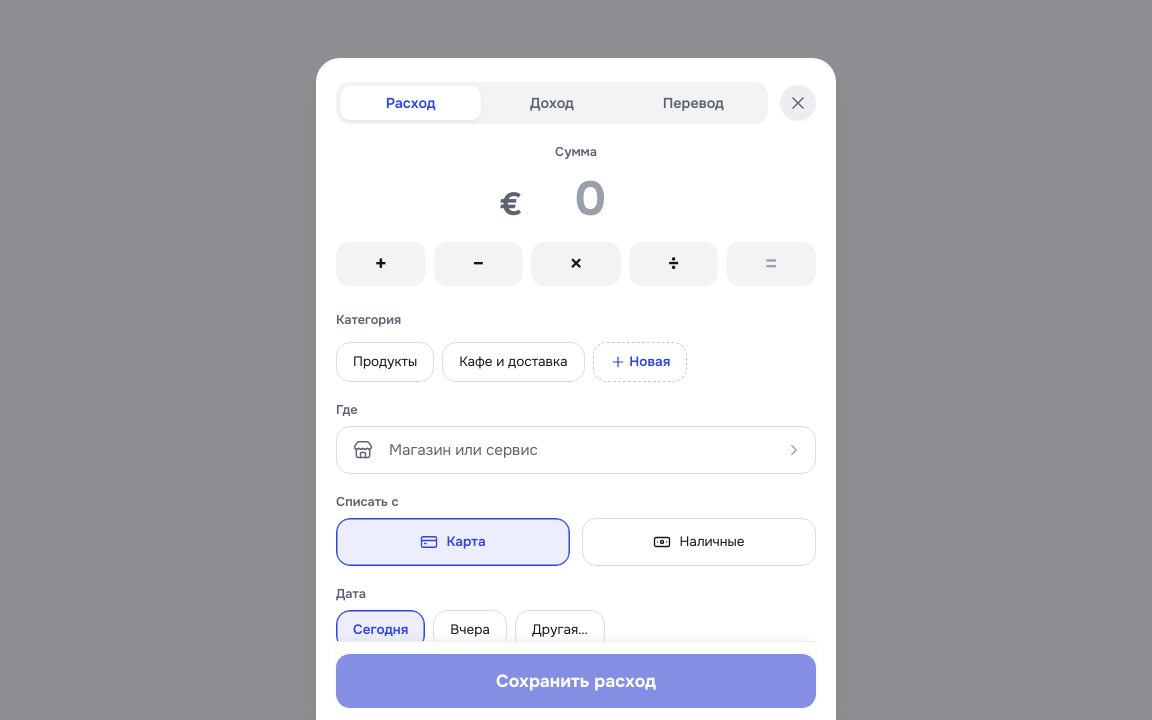
Scenario: the «Где» sheet › replaces the form inside the same dialog and returns to it with everything intact
This screenshot has width=1152, height=720.
Type "34" into the field with placeholder "0". click: point(590, 199)
box: [526,168,653,230]
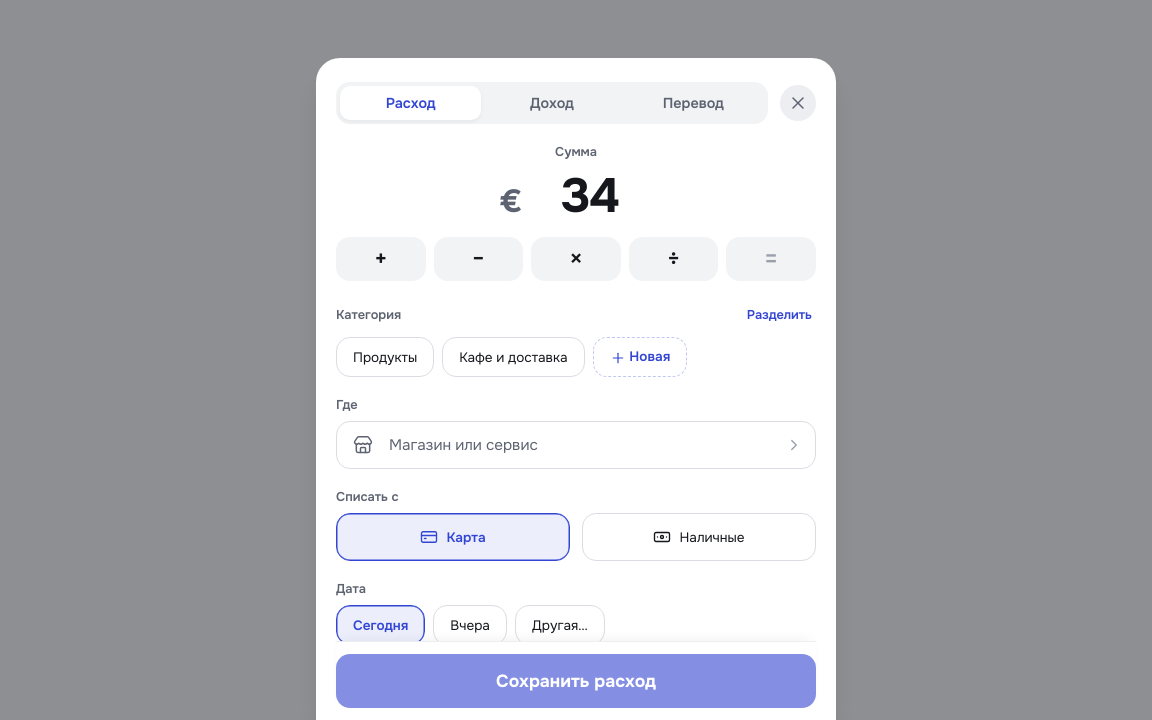
Click the button "Продукты". click: point(385, 357)
box: [336,337,434,377]
(page scrolled)
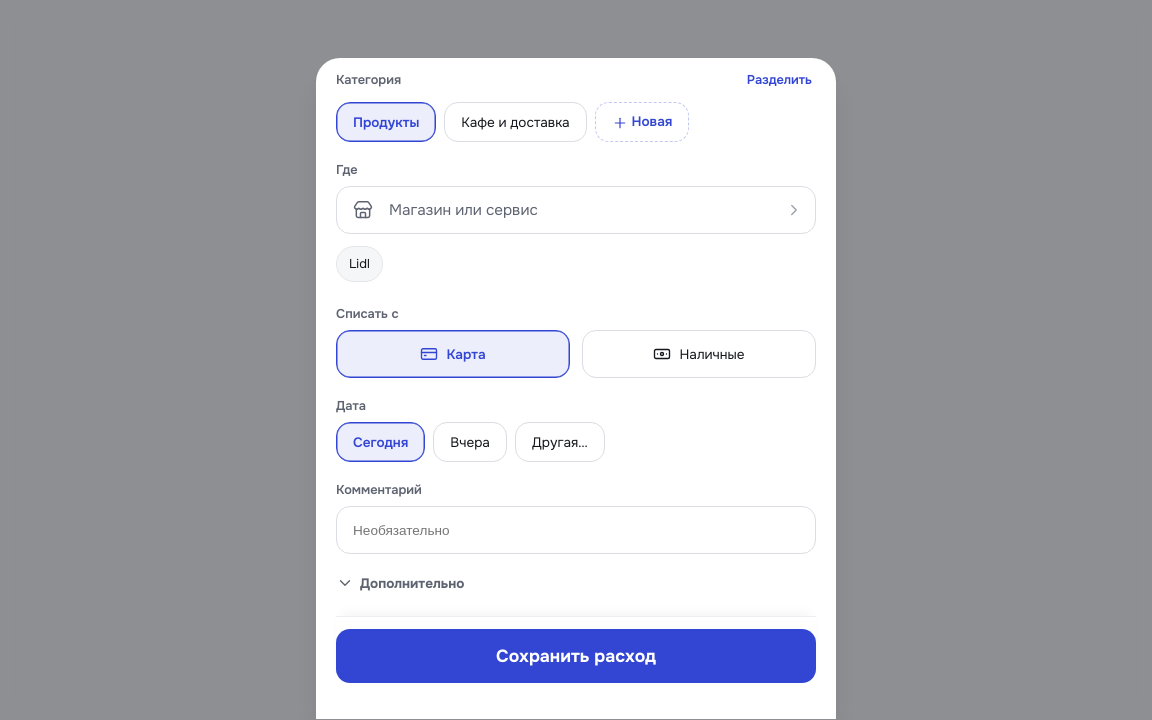
Type "на неделю" into the field with placeholder "Необязательно". click: point(576, 530)
box: [336,506,816,554]
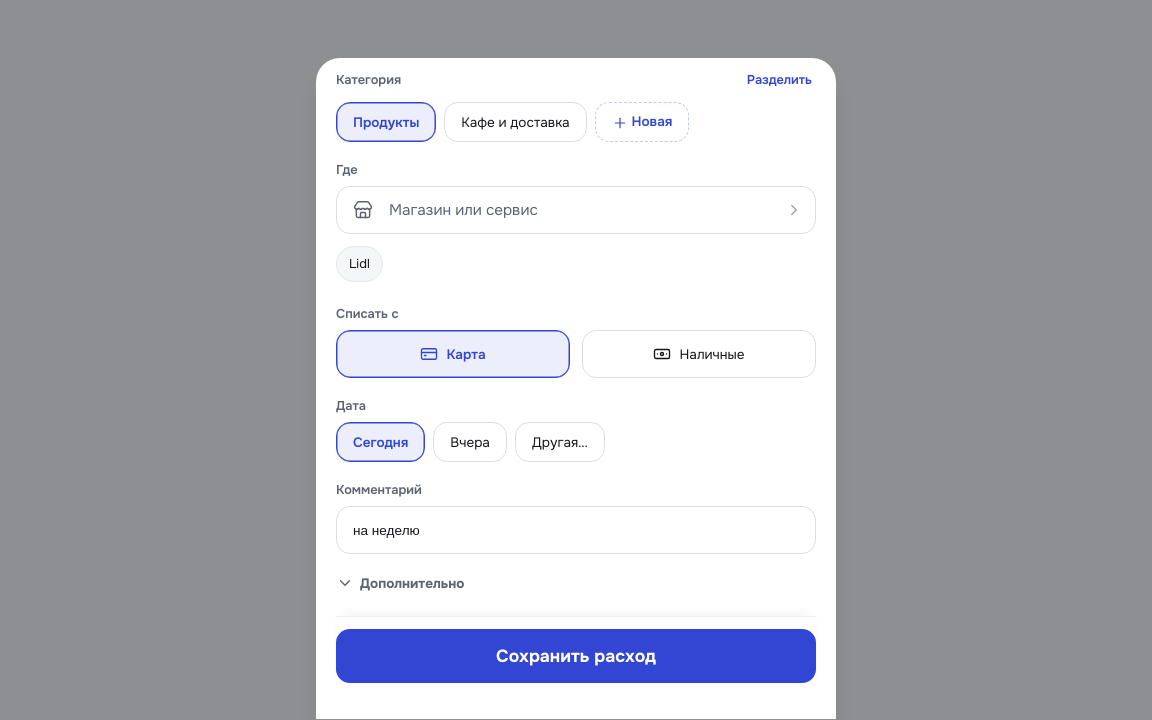
Click the button "Магазин или сервис". click: point(463, 210)
box: [336,186,816,234]
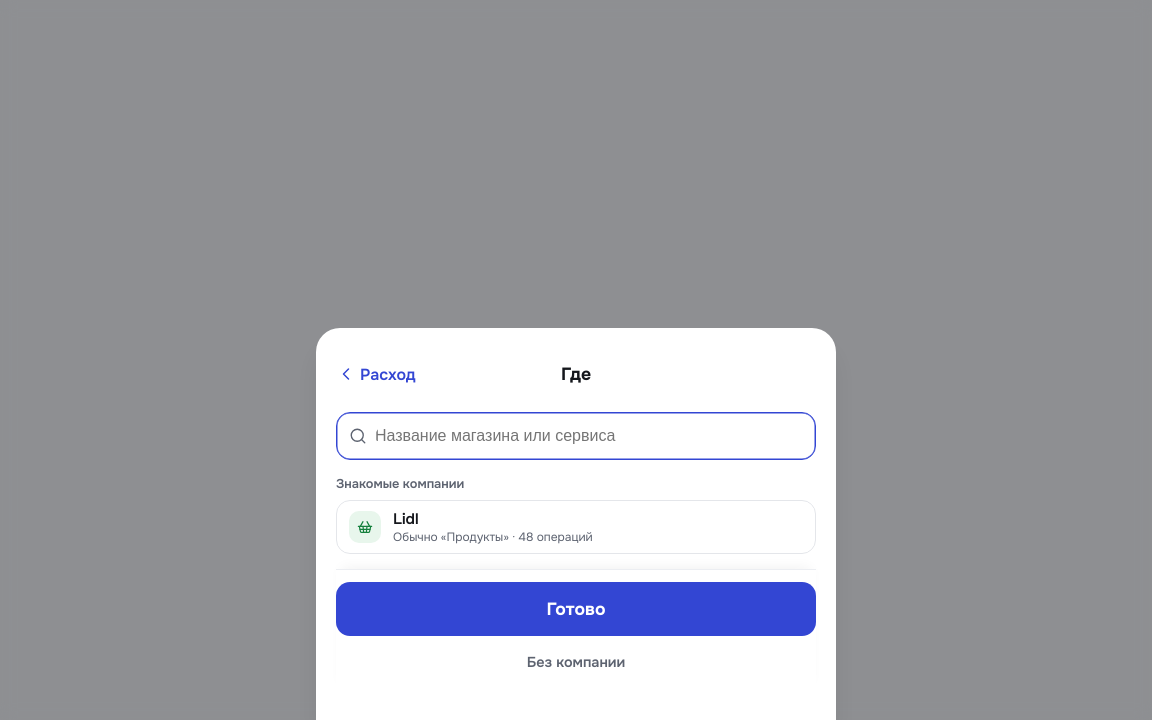
Expected: the number of dialogs is 1, [316,328,836,719]
Expected: the heading "Где" is shown, [561,363,591,385]
Click the button with aria-label "Назад: Расход". click: point(376, 374)
box: [336,352,416,396]
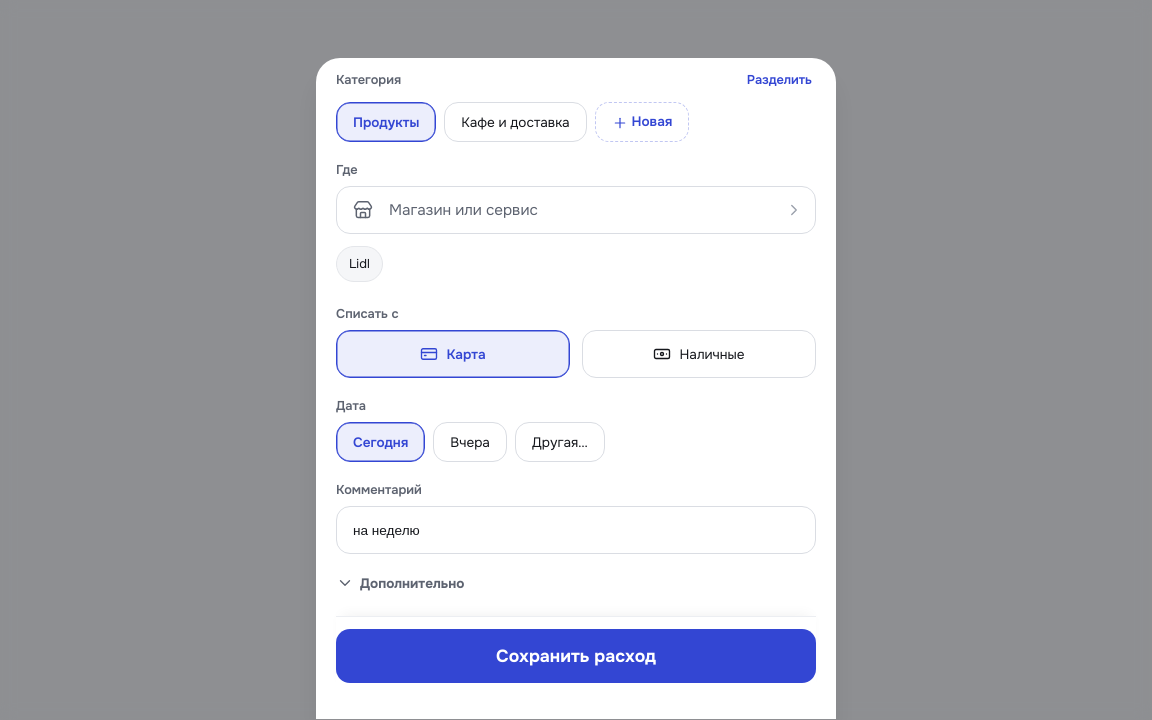
Now the dialog named "Новый расход" is shown, box [316,58,836,719]
